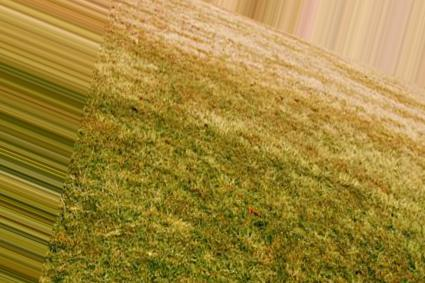patch: (193, 20, 284, 138), (290, 50, 353, 121), (127, 20, 176, 95), (355, 82, 406, 123)
